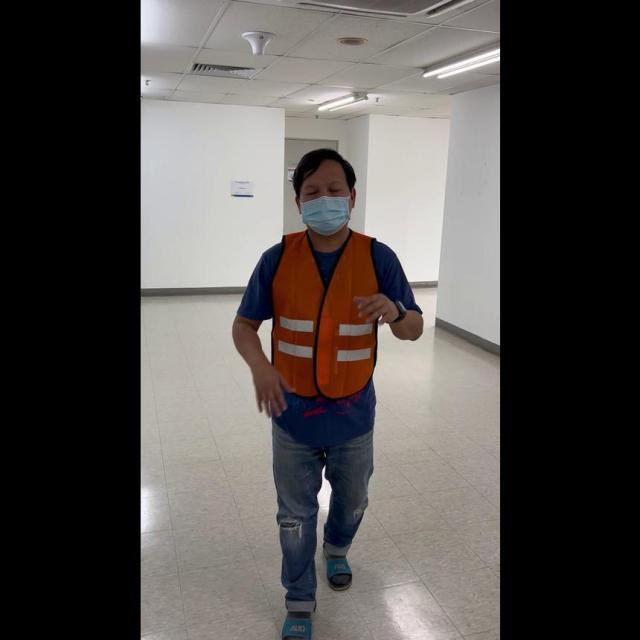bare_hand: (246, 356, 290, 418), (351, 284, 403, 327)
